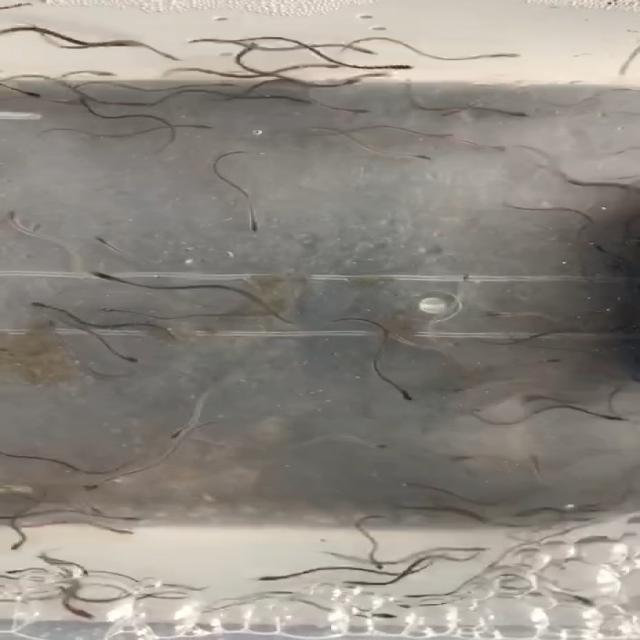active_glass_eel: (483, 40, 528, 70), (590, 406, 640, 431), (384, 384, 428, 408), (102, 351, 162, 368), (515, 449, 558, 471), (61, 604, 102, 627), (101, 520, 153, 538), (100, 508, 154, 525), (391, 600, 433, 621), (495, 104, 537, 124), (89, 264, 130, 284), (337, 74, 371, 98), (255, 567, 290, 590), (482, 308, 524, 327), (81, 225, 113, 249), (555, 594, 603, 610), (238, 216, 276, 236), (142, 50, 196, 64), (24, 298, 70, 314), (90, 65, 130, 83), (335, 106, 380, 122), (183, 123, 225, 140), (0, 537, 44, 553), (500, 198, 538, 216), (366, 68, 399, 88), (400, 148, 441, 164), (102, 35, 138, 53), (368, 608, 411, 623), (575, 242, 615, 258), (0, 561, 33, 580), (212, 74, 240, 96), (354, 46, 388, 64), (513, 503, 549, 520), (362, 558, 400, 574), (532, 354, 572, 369), (386, 584, 426, 599), (385, 61, 423, 76), (602, 64, 639, 79), (432, 130, 469, 145), (15, 86, 49, 102), (67, 90, 99, 107), (435, 105, 462, 125), (316, 60, 348, 76), (95, 304, 128, 319), (160, 428, 197, 441), (80, 480, 110, 496), (27, 553, 55, 569), (368, 438, 394, 454), (403, 481, 431, 494), (3, 207, 25, 220)
